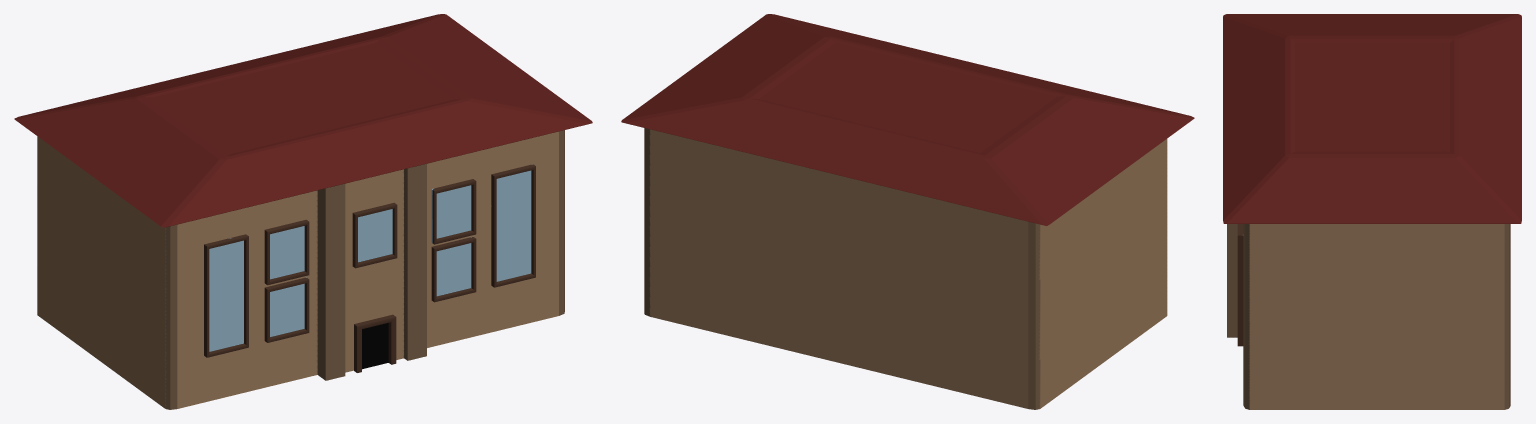
File: Hotel.fbx
The picture shows the model from 3 angles, left to right: view 1: azimuth 30°, elevation 25°; view 2: azimuth 150°, elevation 25°; view 3: azimuth 270°, elevation 25°; orthographic projection.
Visible parts, largest first — view 1: Cube.003; view 2: Cube.003; view 3: Cube.003.
Boxes of the visible parts, <box> form: Cube.003: <box>14,14,592,409</box>; Cube.003: <box>621,14,1194,409</box>; Cube.003: <box>1223,14,1521,409</box>.
Size of the model in its own units: 11469 by 5522 by 6904.
1 material, 1 textured.
